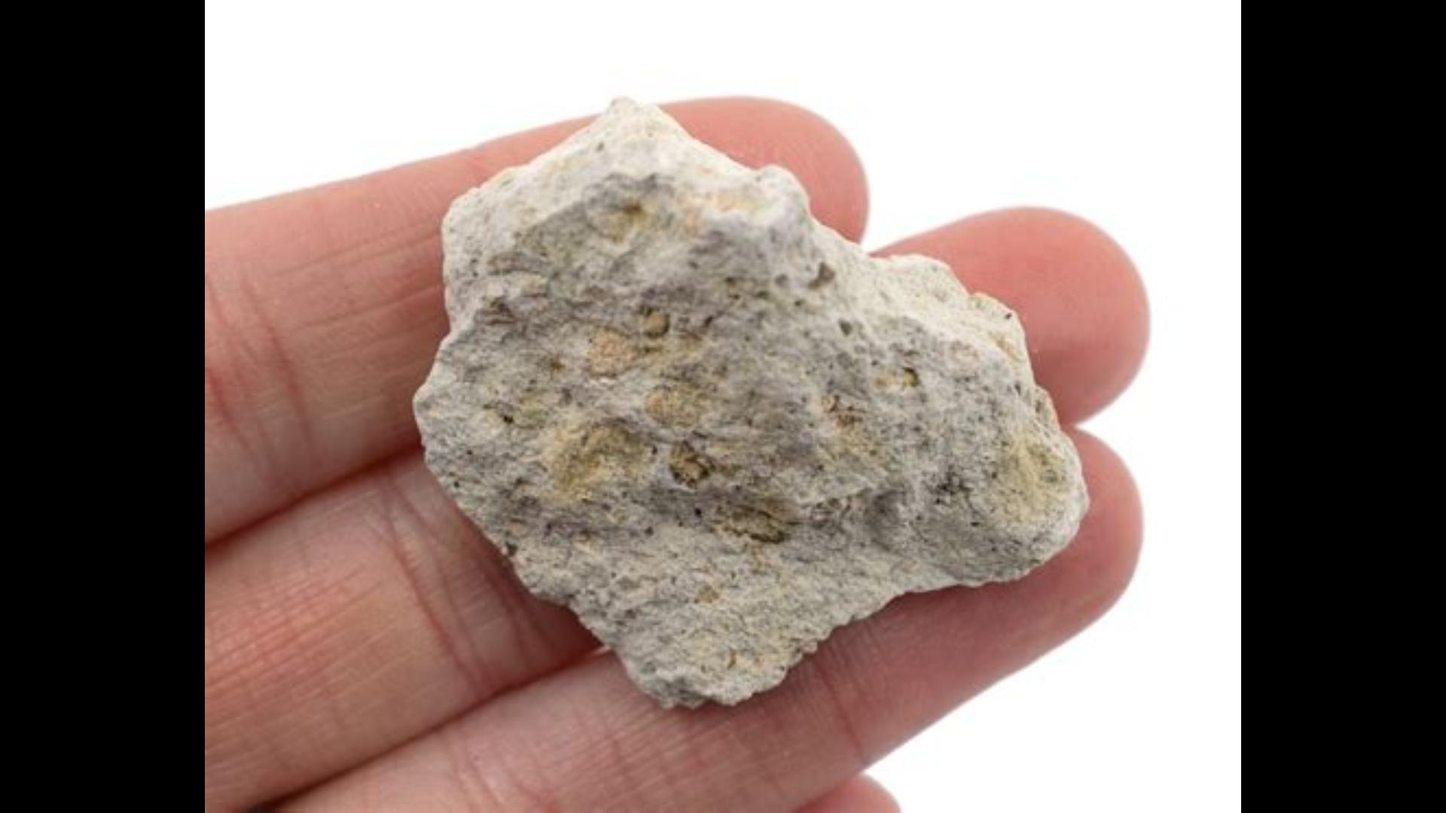rock: (415, 101, 1077, 704)
